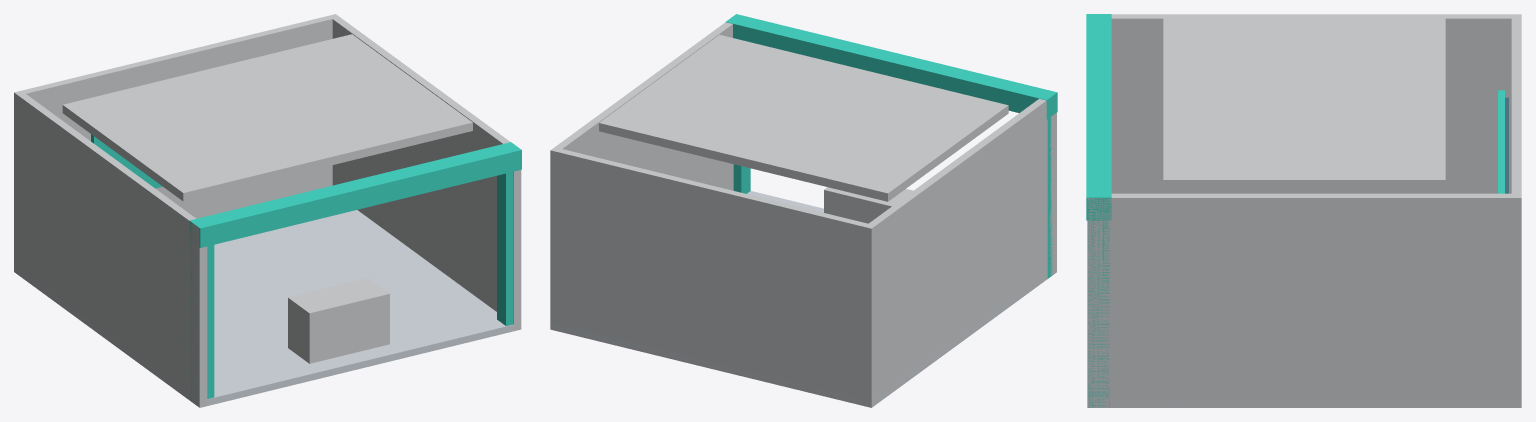
3 views of the same model, side by side, from view 1: azimuth 30°, elevation 25°; view 2: azimuth 150°, elevation 25°; view 3: azimuth 270°, elevation 25° (orthographic). The views are drawn at different scales.
Visible parts, largest first — view 1: Exhibition Booth Concept; view 2: Exhibition Booth Concept; view 3: Exhibition Booth Concept.
Boxes of the visible parts, x1,y1,x2,y2 form: Exhibition Booth Concept: [14, 14, 521, 407]; Exhibition Booth Concept: [550, 14, 1057, 407]; Exhibition Booth Concept: [1086, 14, 1521, 407].
Size of the model in its own units: 6 by 3.34 by 6.02.
